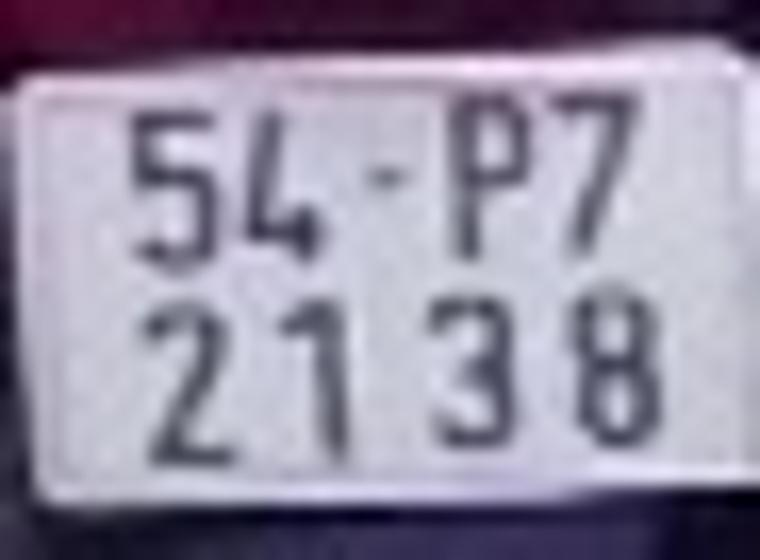-: (353, 163, 405, 192)
1: (277, 290, 361, 469)
2: (140, 297, 236, 467)
3: (416, 290, 516, 448)
4: (241, 115, 321, 266)
5: (123, 108, 221, 270)
7: (542, 87, 637, 257)
8: (560, 278, 663, 449)
P: (448, 88, 530, 265)
